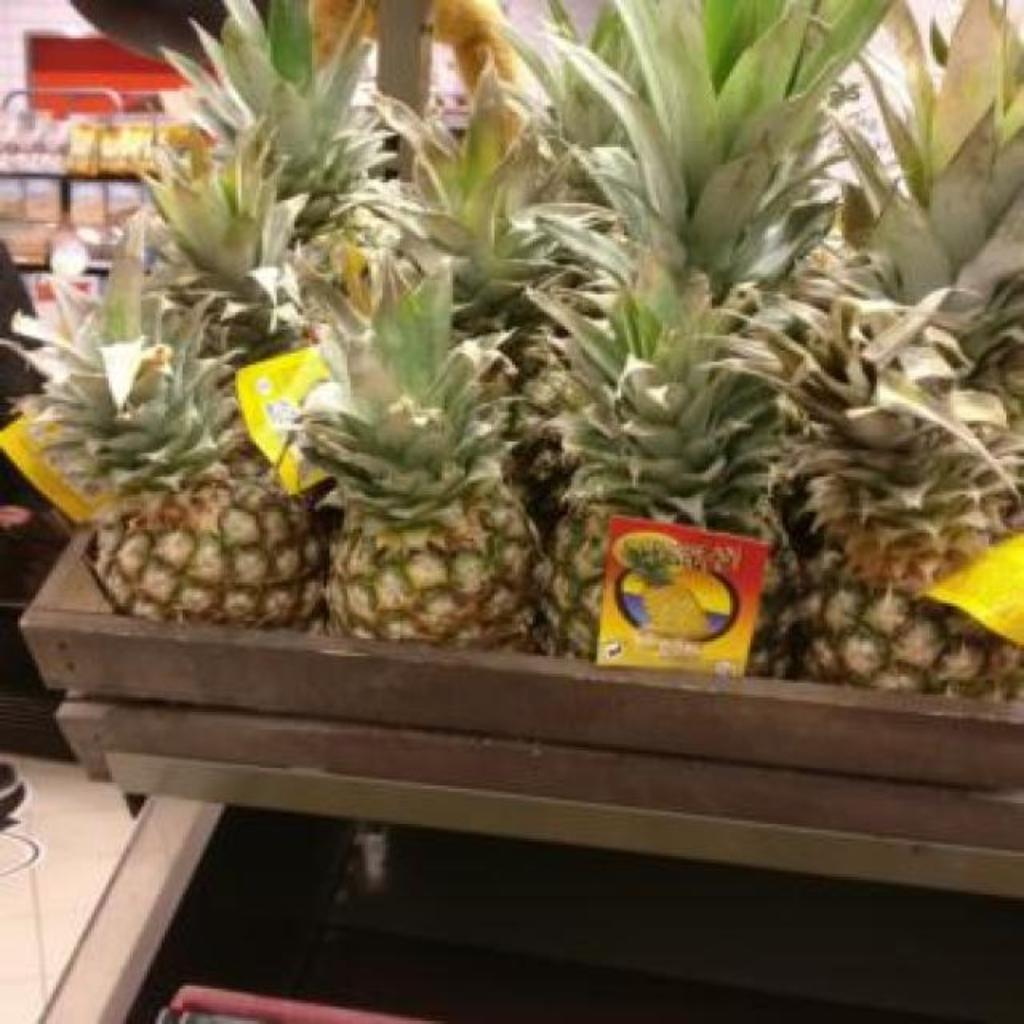pineapple: (508, 0, 880, 655), (732, 0, 1024, 695), (34, 286, 328, 625), (304, 278, 532, 645)
